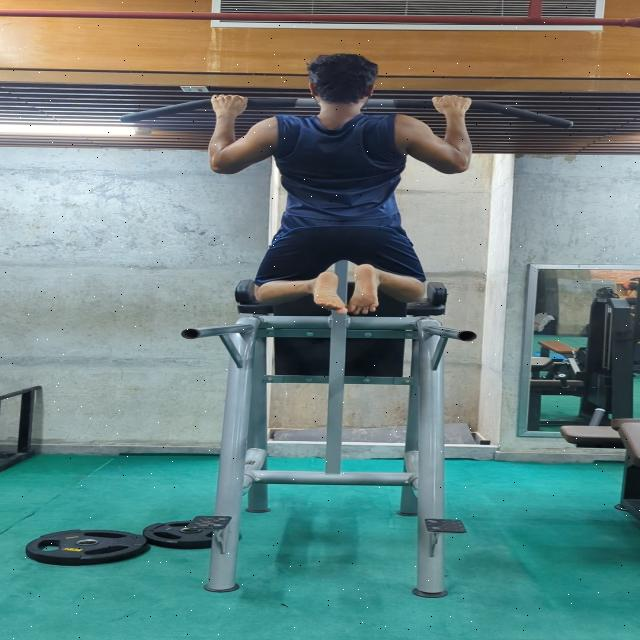Normal_PullUps: (195, 48, 487, 318)
